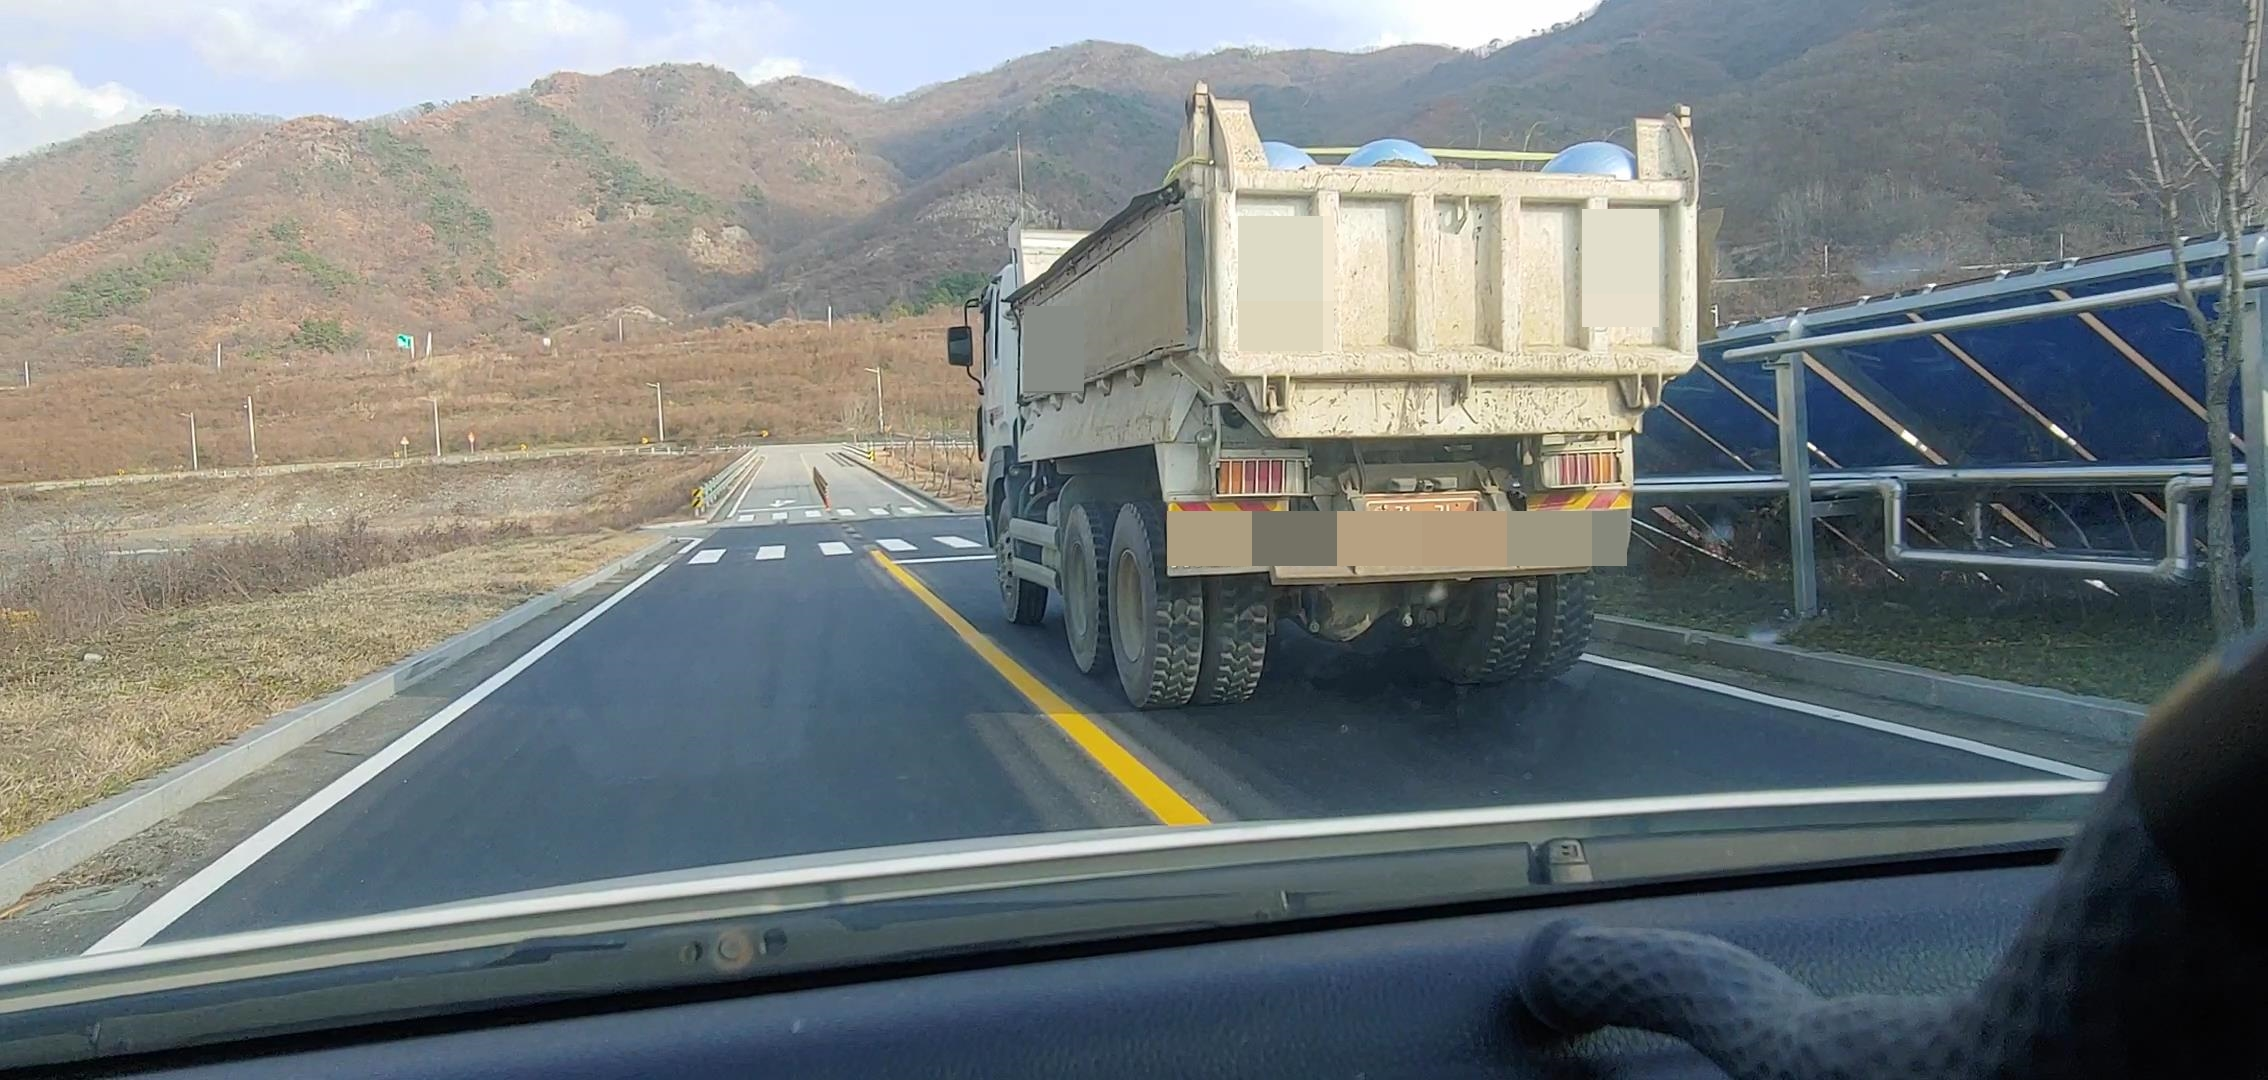불법차량: (946, 78, 1726, 710)
